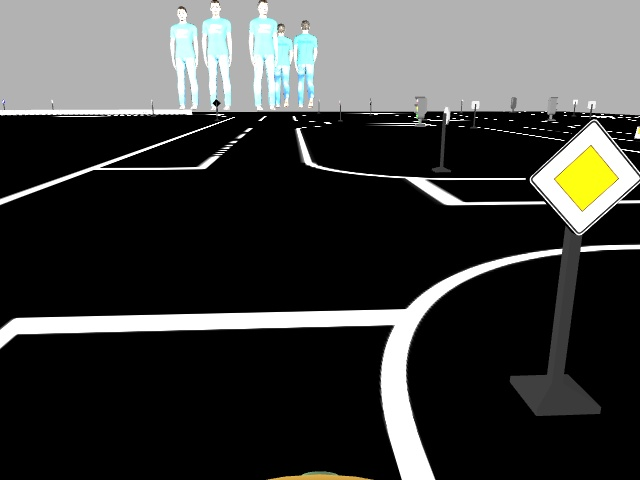Priority: (528, 116, 636, 236)
